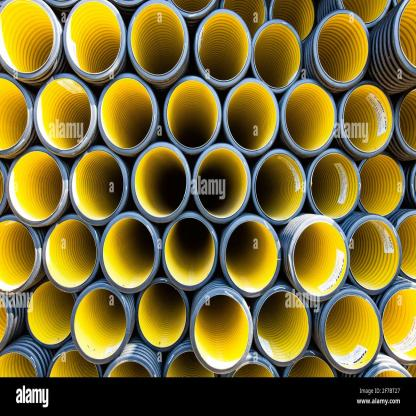PVC: (0, 1, 416, 376)
